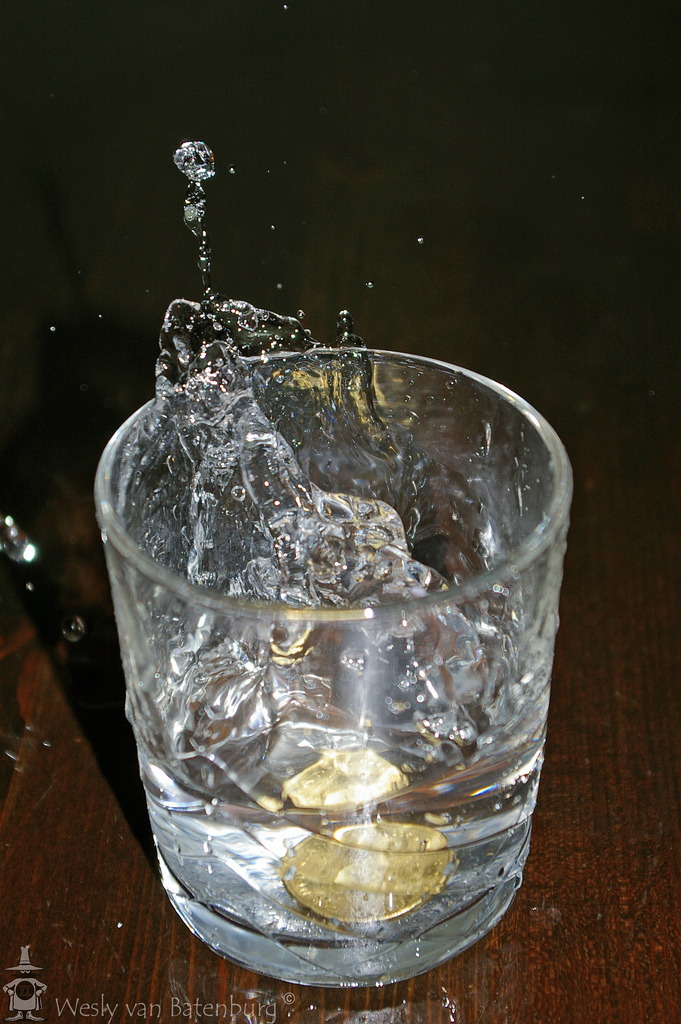glass of water: (87, 268, 573, 1004)
